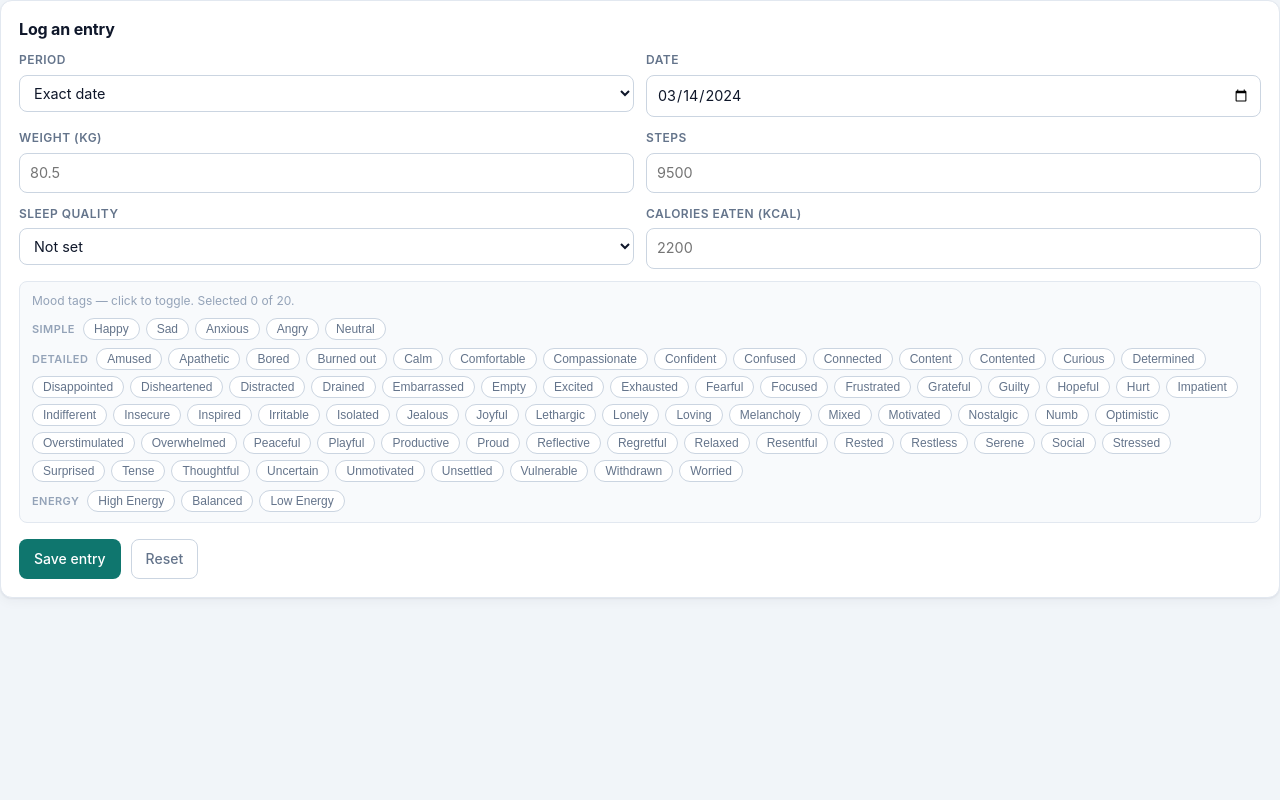
Test: EntryForm › requires at least one measurement
Click the button "Save entry": (70, 559) left=19, top=539, right=121, bottom=579
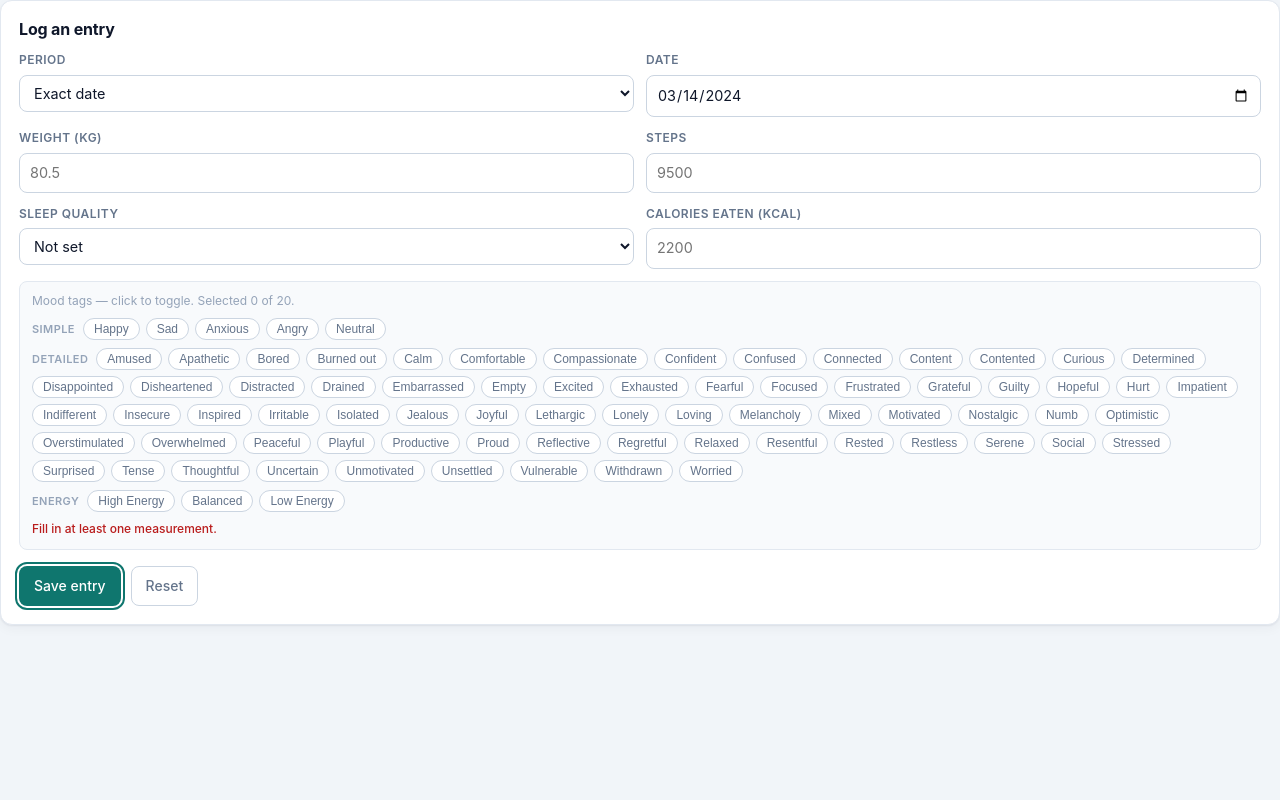
Now the text "Fill in at least one measurement." is shown, box left=32, top=521, right=217, bottom=536
